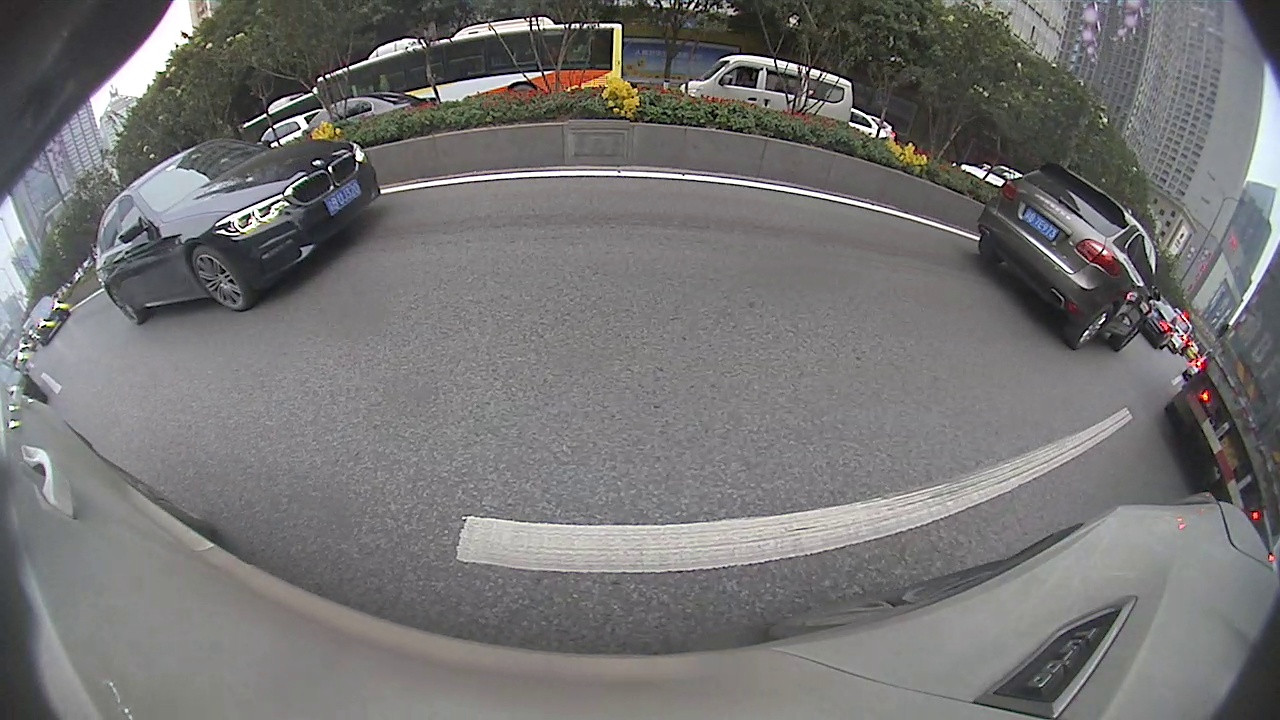car: (1, 188, 394, 515), (666, 135, 807, 222), (487, 158, 564, 209), (644, 153, 675, 185), (568, 163, 596, 186)
front: (332, 221, 386, 292), (664, 179, 673, 202)
person: (855, 138, 872, 222)
rear: (17, 409, 125, 522), (686, 181, 699, 215), (539, 182, 548, 201)
rider: (812, 160, 850, 220)
